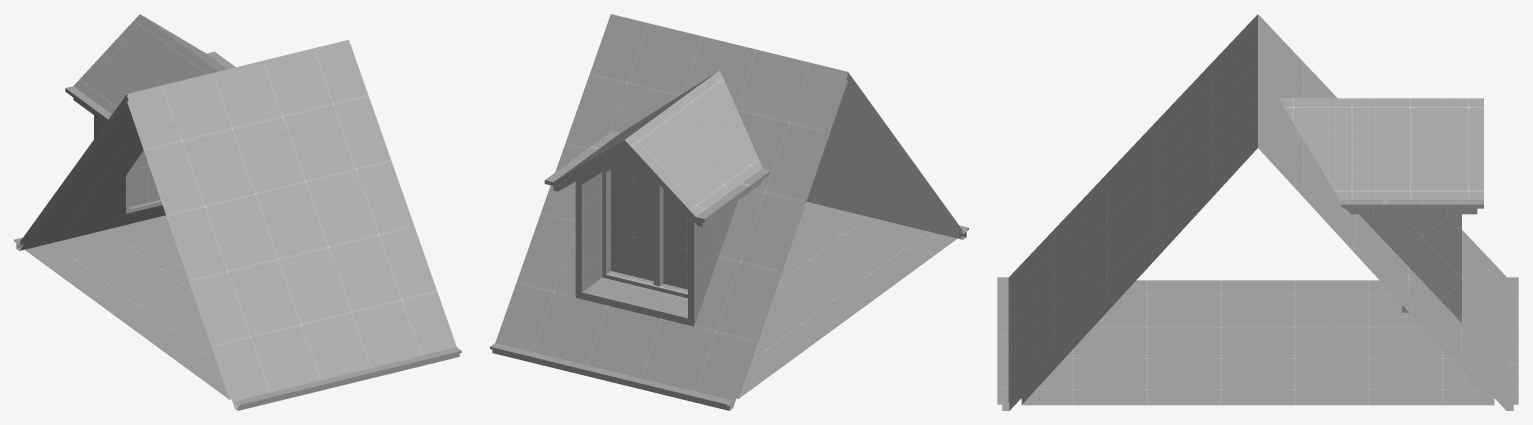
File: HighRoof.008.fbx
3 views of the same model, side by side, from view 1: azimuth 30°, elevation 25°; view 2: azimuth 150°, elevation 25°; view 3: azimuth 270°, elevation 25° (orthographic). The views are drawn at different scales.
Parts seen in each view (by area): view 1: HighRoof.008; view 2: HighRoof.008; view 3: HighRoof.008.
Part boxes in pixels (left/top/right/bottom): HighRoof.008: left=14, top=14, right=461, bottom=410; HighRoof.008: left=490, top=14, right=968, bottom=410; HighRoof.008: left=997, top=14, right=1518, bottom=410.
Size of the model in its own units: 400 by 406 by 706.
